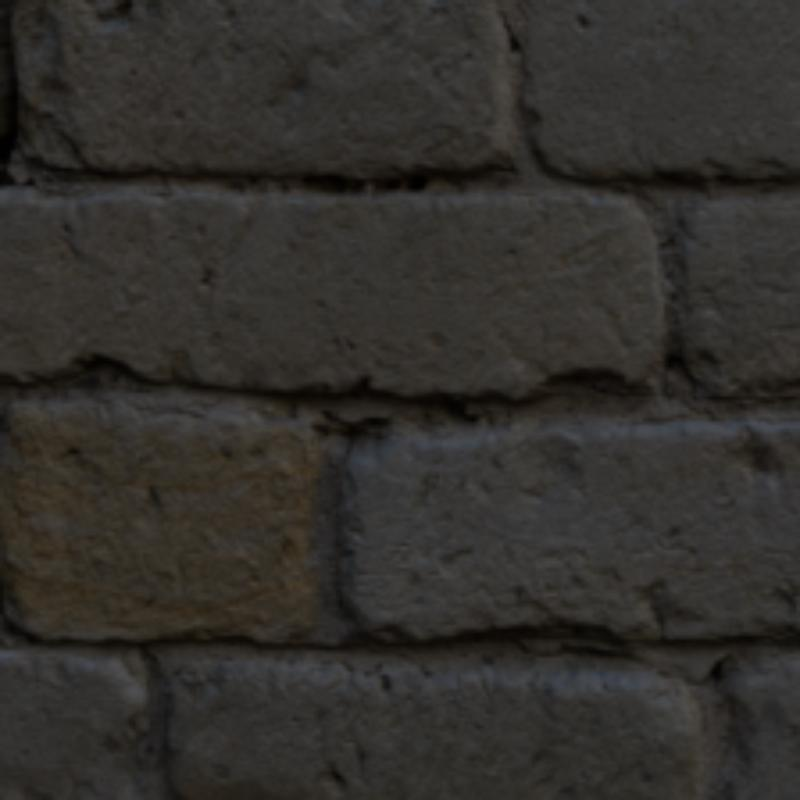pothole: (0, 0, 18, 182)
